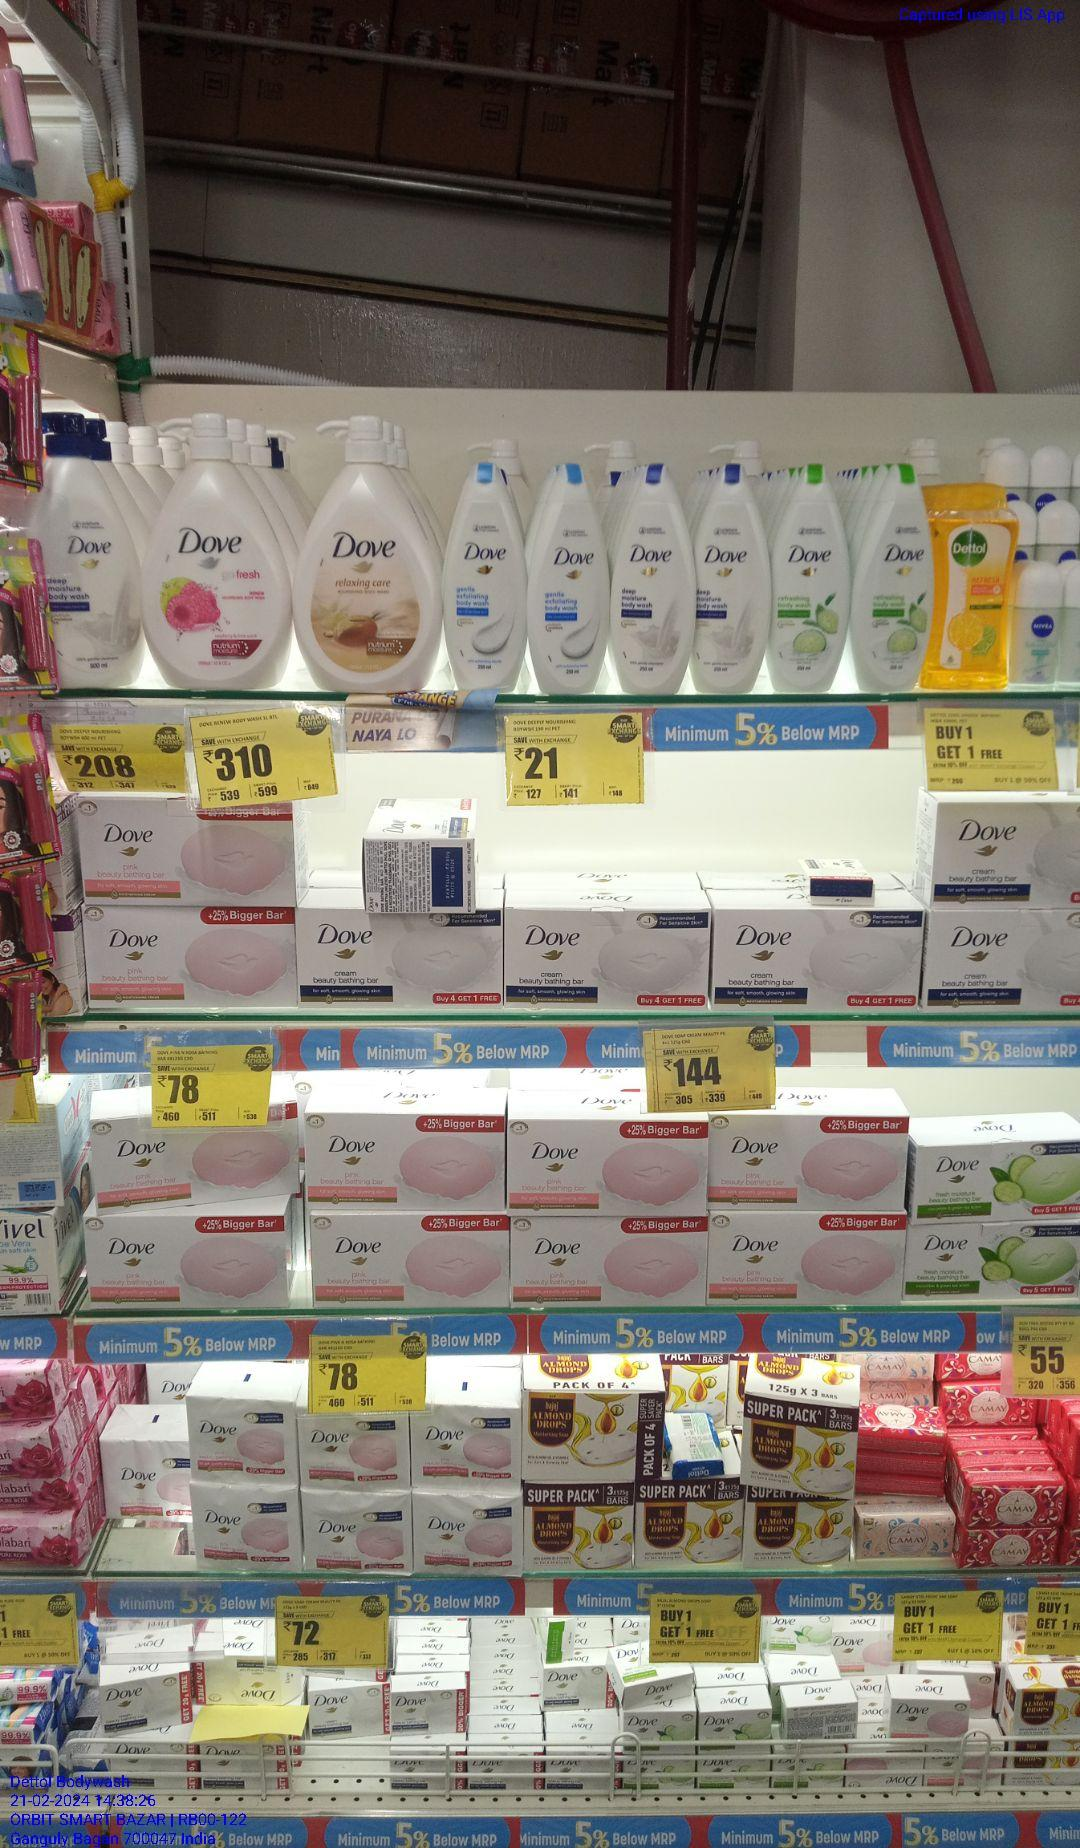Dettol_Bodywash_Refresh: (935, 481, 1022, 690)
Dove_Deep_Moisture_Body_Wash_250ML: (612, 460, 697, 691), (696, 460, 774, 691)
Dove_Gentle_Exfoliating_Body_Wash_250ML: (440, 460, 528, 690), (530, 460, 611, 694)
Dove_Refreshing_Body_Wash_250ML: (851, 464, 935, 690), (774, 461, 852, 693)
